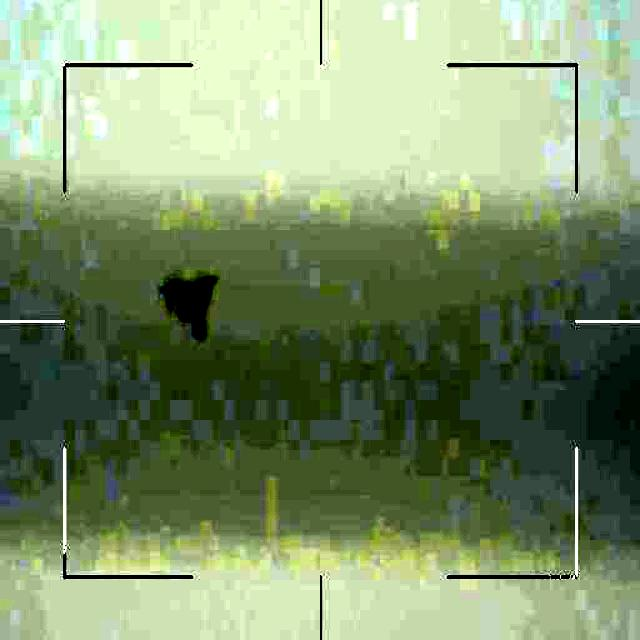bird: (151, 271, 228, 352)
